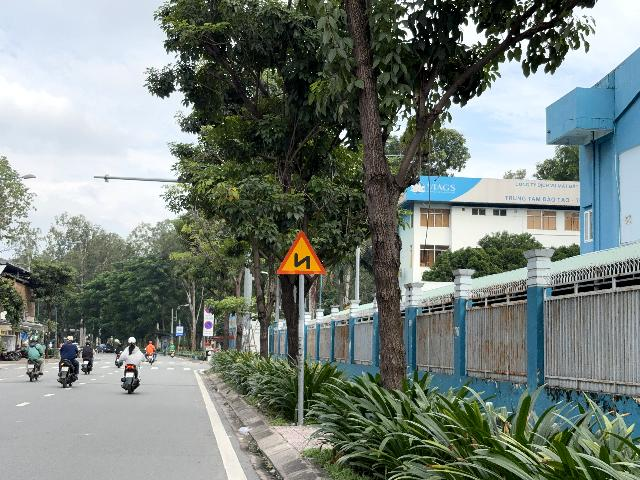nhieu-cho-ngoat-nguy-hiem-lien-tiep: (277, 230, 326, 275)
